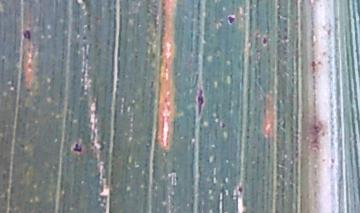tarspot: (196, 85, 205, 116), (21, 29, 32, 42), (72, 142, 82, 153), (226, 15, 236, 25), (261, 35, 269, 47), (236, 185, 244, 194), (81, 34, 88, 42), (282, 34, 289, 42), (220, 121, 226, 130), (282, 26, 288, 33), (245, 134, 251, 140)
